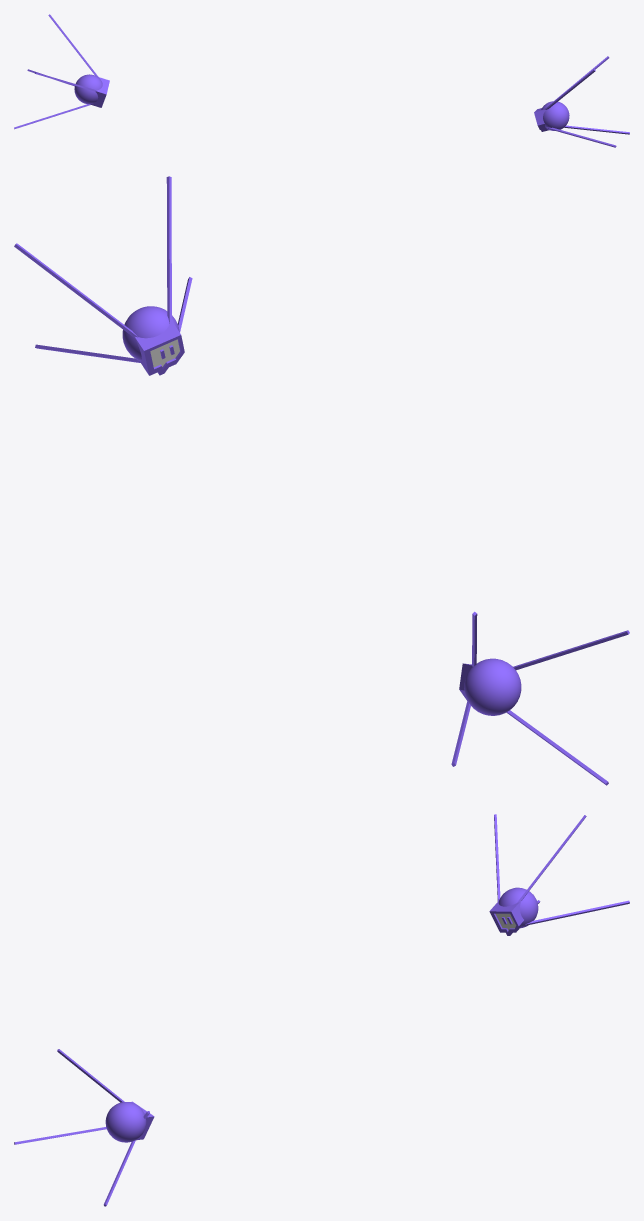
Rendered from sat.gltf.
3 renders of one model, top to bottom at view 1: azimuth 30°, elevation 25°; view 2: azimuth 150°, elevation 25°; view 3: azimuth 270°, elevation 25°, orthographic. The views are drawn at different scales.
Parts seen in each view (by area): view 1: Cube.001_Cube.003; view 2: Cube.001_Cube.003; view 3: Cube.001_Cube.003.
Part boxes in pixels (x1,y1,x2,y2): Cube.001_Cube.003: [14, 14, 629, 147]; Cube.001_Cube.003: [14, 176, 629, 785]; Cube.001_Cube.003: [14, 814, 629, 1206].
Bounding box in the file's own units: 135 × 25.5 × 116.
